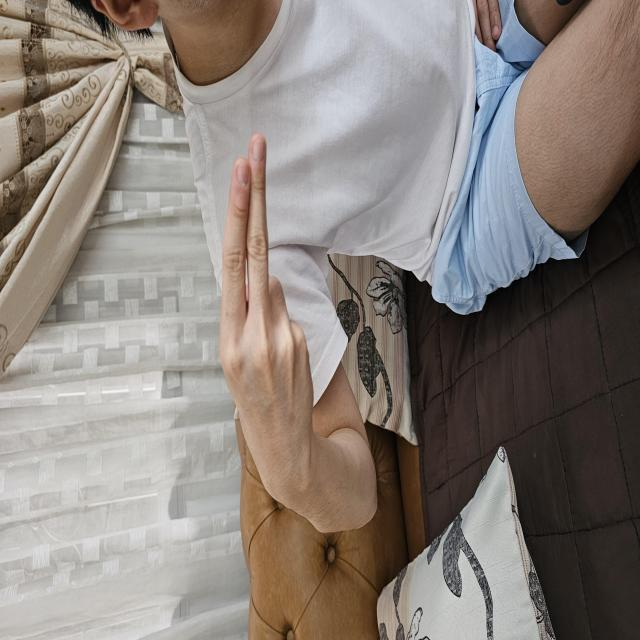H: (132, 218, 510, 315)
